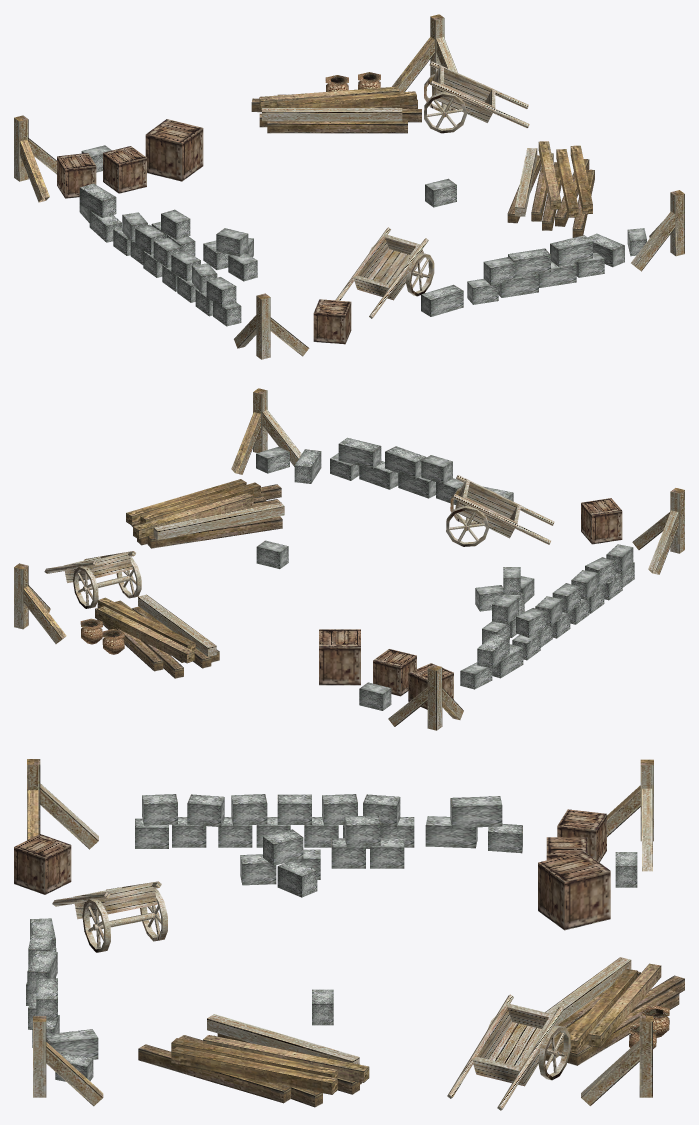
Rendered from found_4x4_b.dae.
3 views of the same model, one above another, from view 1: azimuth 30°, elevation 25°; view 2: azimuth 150°, elevation 25°; view 3: azimuth 270°, elevation 25° (orthographic). The views are drawn at different scales.
Visible parts, largest first — view 1: found_4x4_b; view 2: found_4x4_b; view 3: found_4x4_b.
Boxes of the visible parts, x1=… form: found_4x4_b: x1=14, y1=14, x2=684, y2=359; found_4x4_b: x1=14, y1=388, x2=684, y2=730; found_4x4_b: x1=14, y1=759, x2=684, y2=1110.
Size of the model in its own units: 21.75 by 3.08 by 22.
